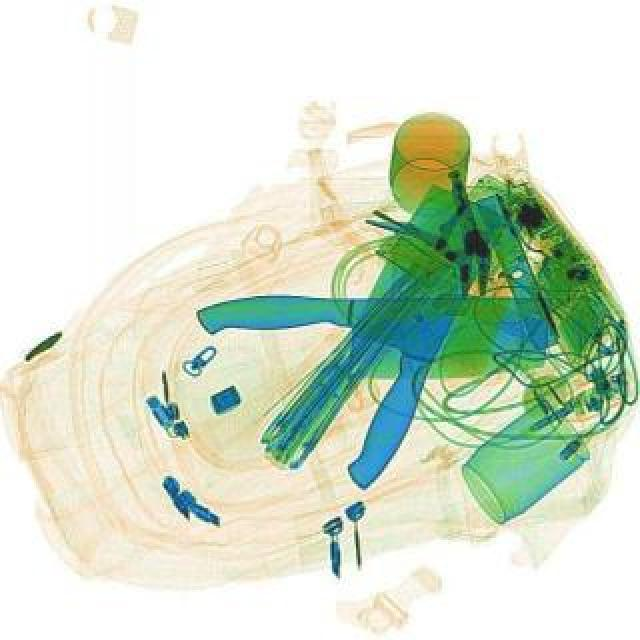knife: (288, 184, 518, 496), (198, 286, 552, 390)
